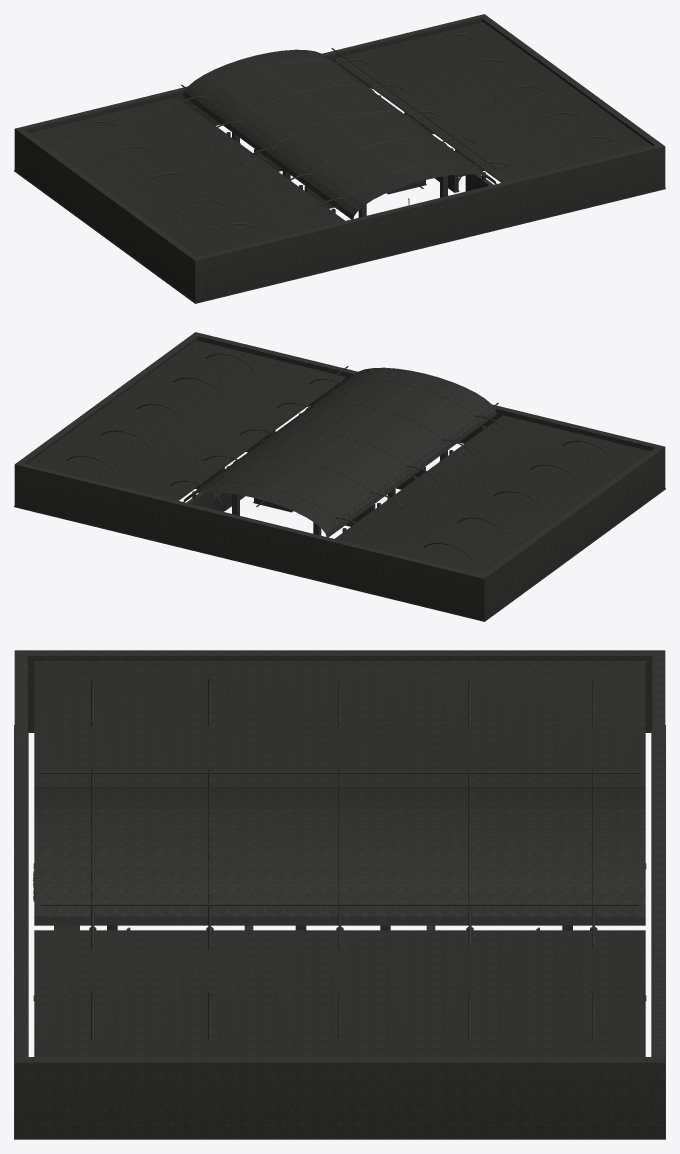
Rendered from environment.glb.
3 views of the same model, one above another, from view 1: azimuth 30°, elevation 25°; view 2: azimuth 150°, elevation 25°; view 3: azimuth 270°, elevation 25° (orthographic). The views are drawn at different scales.
Visible parts, largest first — view 1: Roof_stone, Environment_stone.005; view 2: Roof_stone, Environment_stone.005; view 3: Roof_stone, Environment_stone.005.
Boxes of the visible parts, box(x1,y1,x2,y2) form: Roof_stone: box(29, 22, 651, 256); Environment_stone.005: box(14, 14, 665, 303); Roof_stone: box(28, 340, 650, 574); Environment_stone.005: box(14, 332, 665, 621); Roof_stone: box(34, 661, 645, 1056); Environment_stone.005: box(14, 650, 665, 1139).
Size of the model in its own units: 150 by 19.22 by 100.
5 materials, 4 textured.
